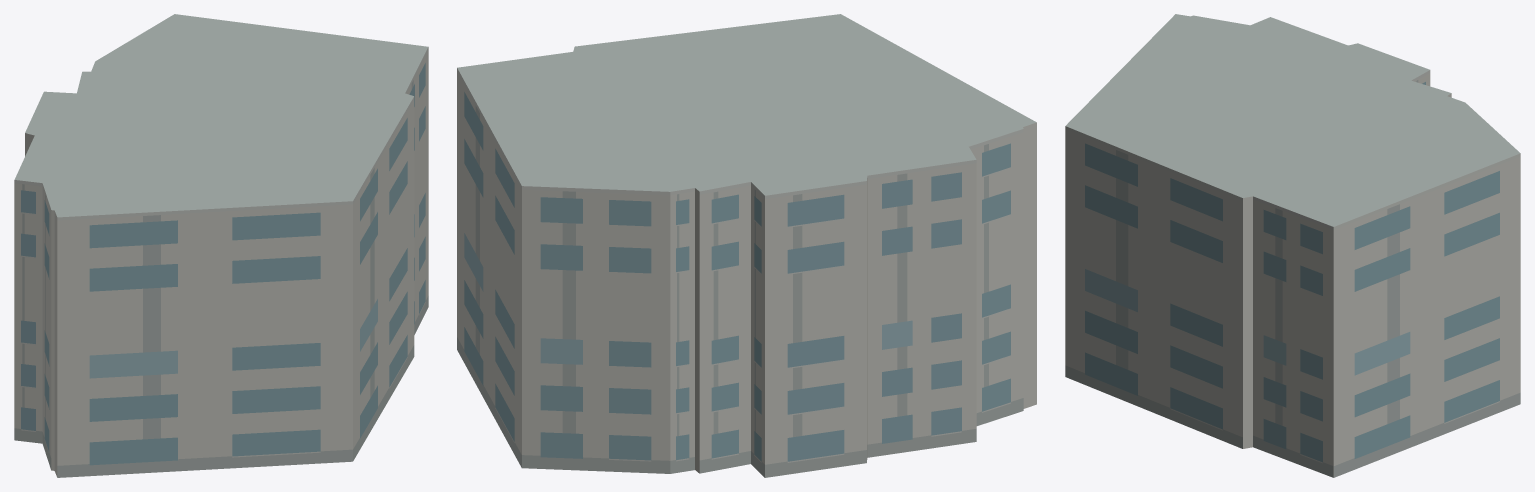
The model's file is survey-upis-33020732.glb.
3 views of the same model, side by side, from view 1: azimuth 30°, elevation 25°; view 2: azimuth 150°, elevation 25°; view 3: azimuth 270°, elevation 25° (orthographic). The views are drawn at different scales.
Visible parts, largest first — view 1: survey-upis-33020732.tmp; view 2: survey-upis-33020732.tmp; view 3: survey-upis-33020732.tmp.
Part boxes in pixels (x1,y1,x2,y2): survey-upis-33020732.tmp: (14, 14, 428, 477); survey-upis-33020732.tmp: (457, 14, 1036, 477); survey-upis-33020732.tmp: (1065, 14, 1520, 477).
Bounding box in the file's own units: 34.78 × 19.1 × 31.42.
